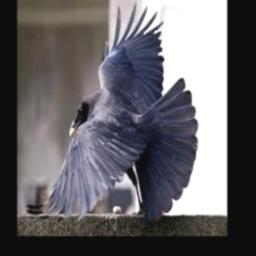Crow: (34, 6, 198, 224)
